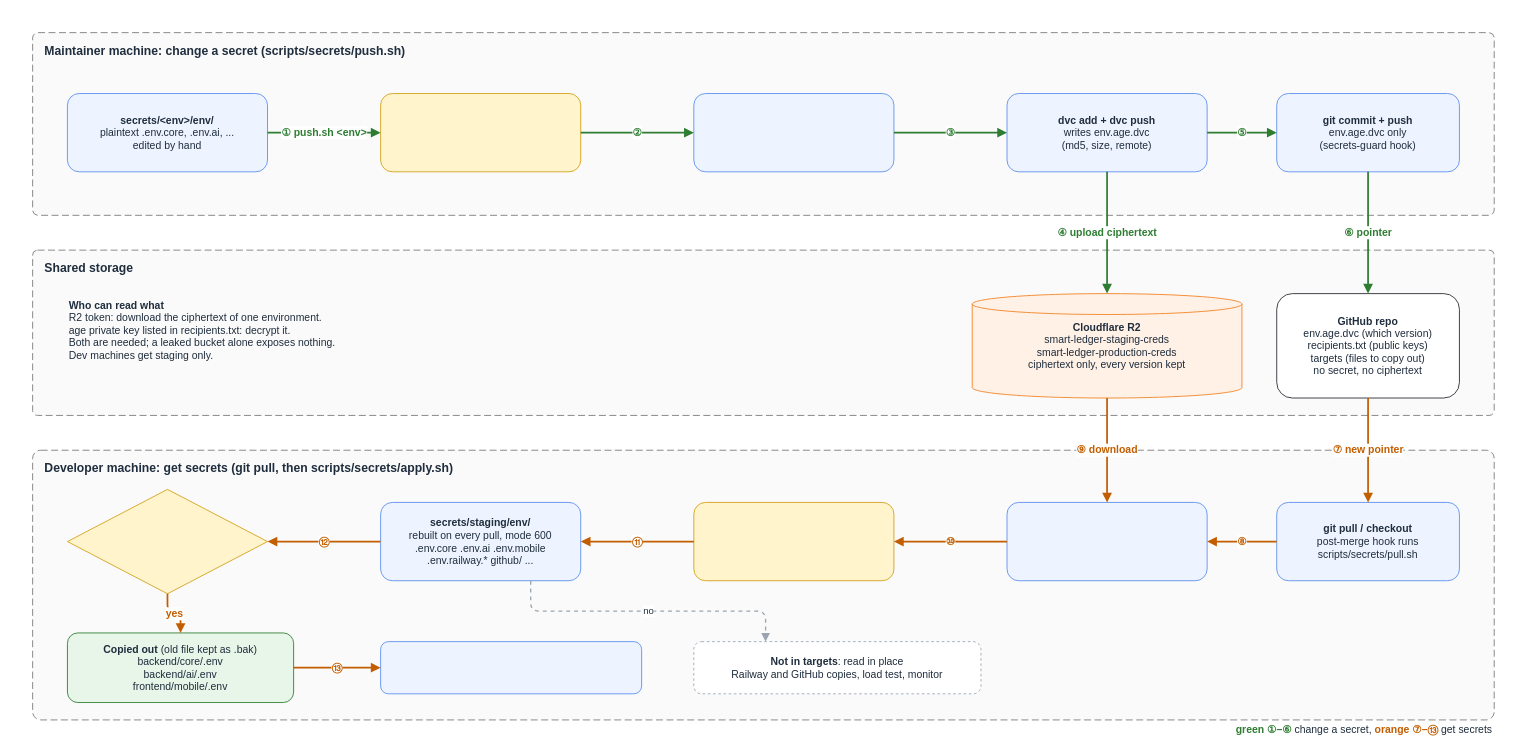
The diagram is 1526 pixels wide and 752 high, and some of its shapes have lost their labels. The shapes that lost their labels are listed below. From the top down, each one's centre as x and y in pixels, then its label:
the point at 480,132: age -R recipients.txt encrypt each file for every public key
the point at 793,132: secrets/<env>/env.age/ ciphertext, git-ignored
the point at 167,541: apply.sh listed in targets? dry run, or --apply
the point at 793,541: age -d -i age.key ~/.config/smartledger/age.key decrypt every file
the point at 1106,541: dvc pull fetch env.age/ named by the pointer (R2 token in .dvc/config.local)
the point at 511,667: docker compose / uvicorn / mvnw / Expo read the copied files
